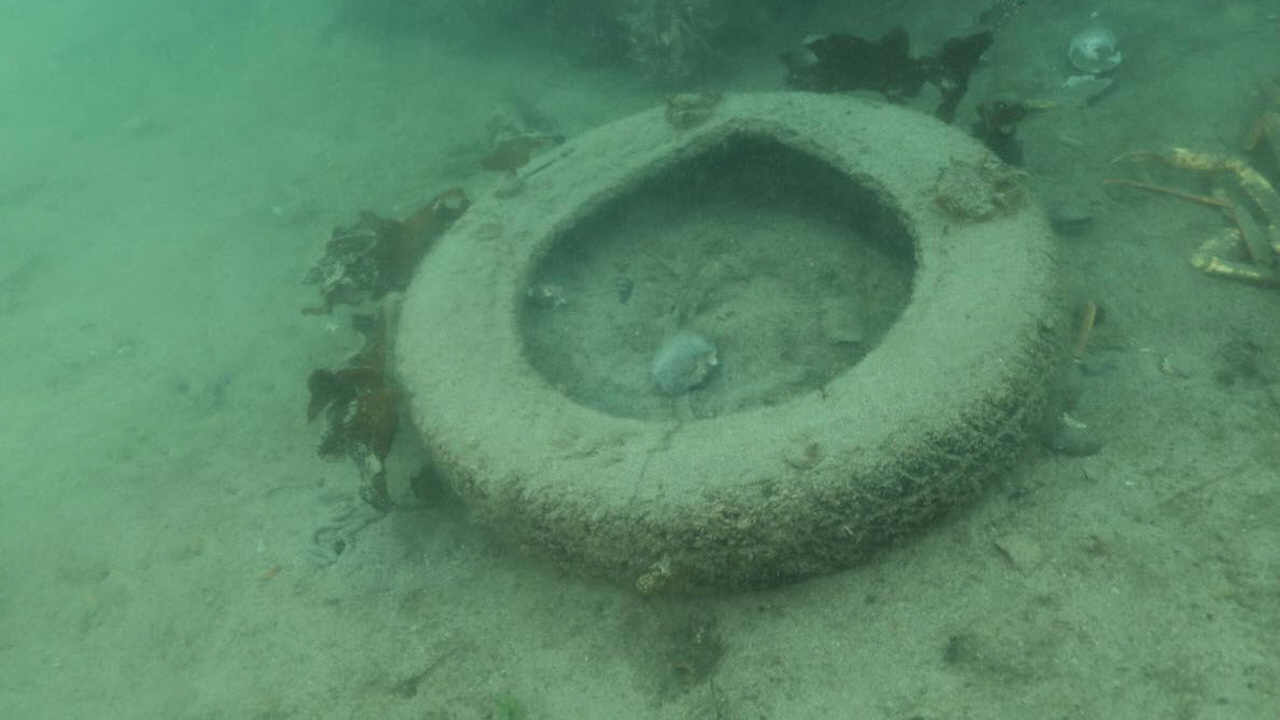tire: (397, 84, 1089, 595)
